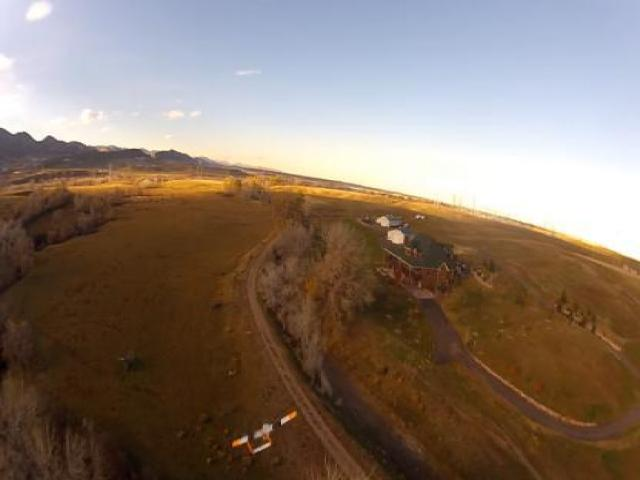uav: (230, 408, 298, 452)
